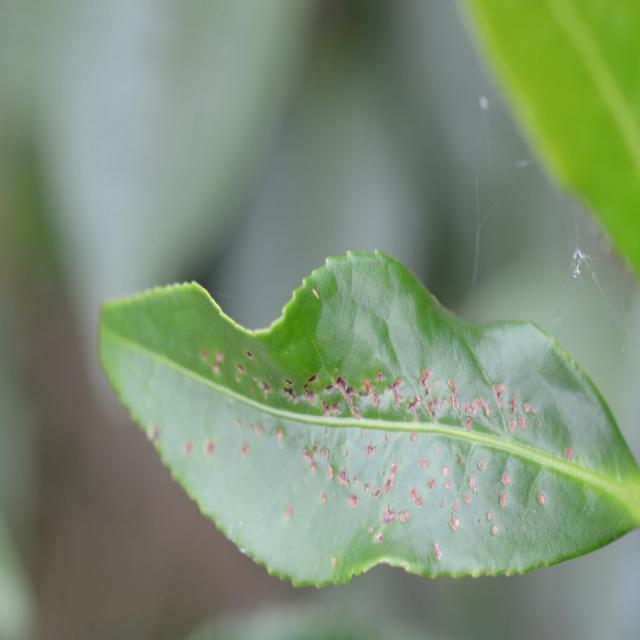Tea red scab: (167, 334, 557, 532)
